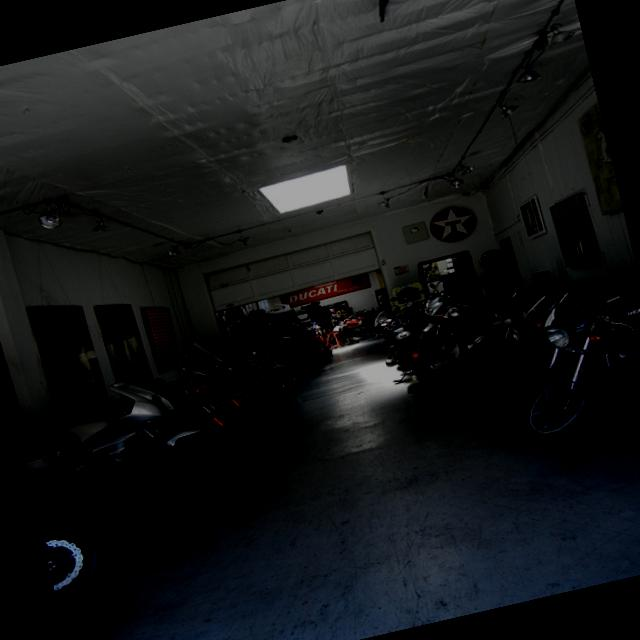Vehicle: (11, 358, 238, 529), (488, 274, 640, 442), (471, 270, 640, 420), (190, 307, 382, 403), (145, 345, 279, 477), (407, 260, 537, 348), (185, 332, 281, 446), (454, 286, 558, 375), (40, 511, 126, 615), (369, 296, 448, 394), (428, 285, 510, 359), (225, 346, 292, 416), (234, 343, 300, 402), (469, 327, 524, 392)
